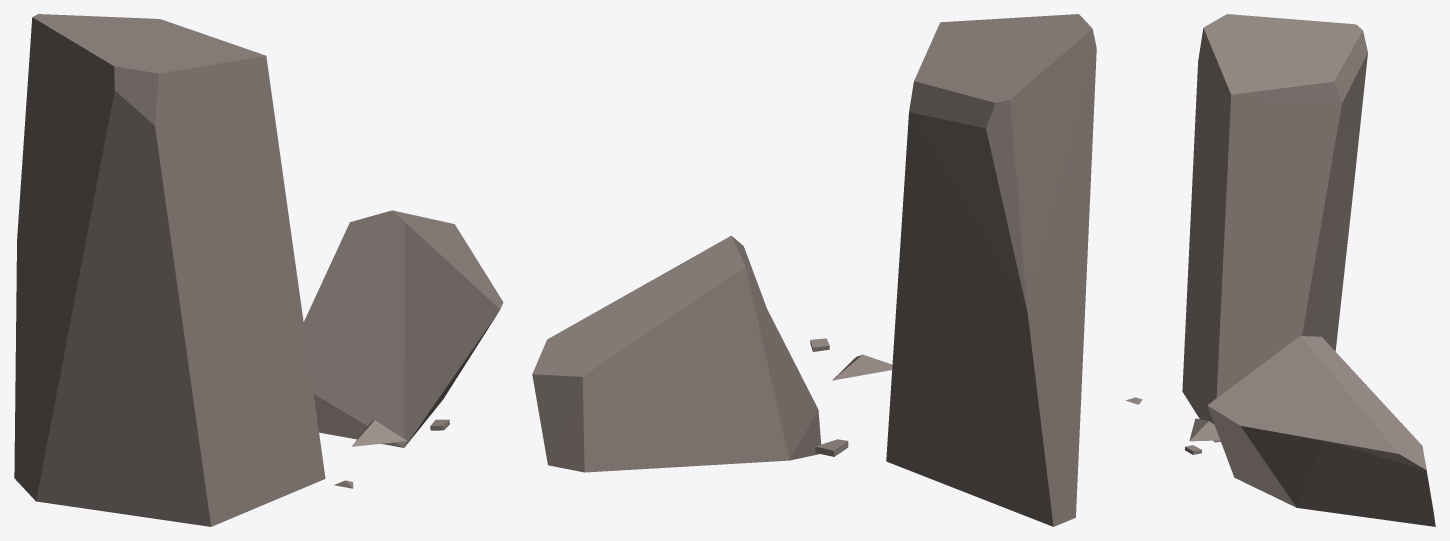
File: Rock_Sharp_crk_m_02.fbx
The picture shows the model from 3 angles, left to right: view 1: azimuth 30°, elevation 25°; view 2: azimuth 150°, elevation 25°; view 3: azimuth 270°, elevation 25°; orthographic projection. The views are drawn at different scales.
Visible parts, largest first — view 1: Rock_Sharp_crk_m_02; view 2: Rock_Sharp_crk_m_02; view 3: Rock_Sharp_crk_m_02.
Boxes of the visible parts, x1,y1,x2,y2 form: Rock_Sharp_crk_m_02: [14, 14, 503, 526]; Rock_Sharp_crk_m_02: [532, 14, 1096, 526]; Rock_Sharp_crk_m_02: [1125, 14, 1435, 526].
Bounding box in the file's own units: 1.31 × 1.2 × 0.9483.
